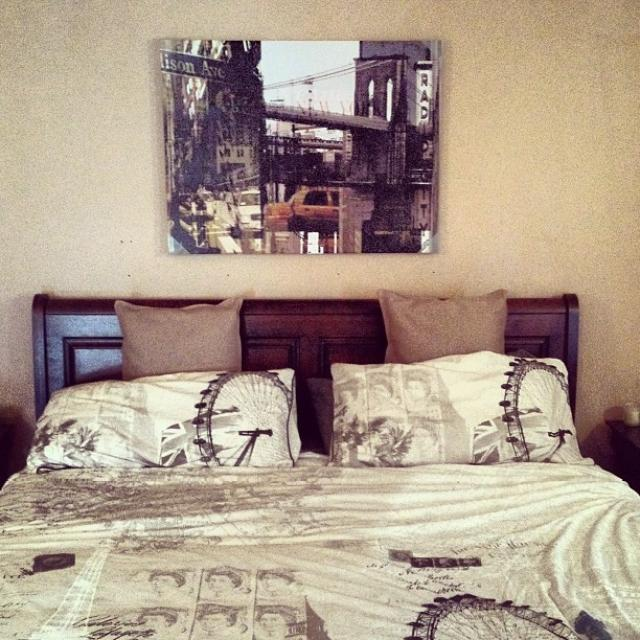Vehicle: (263, 190, 340, 234)
